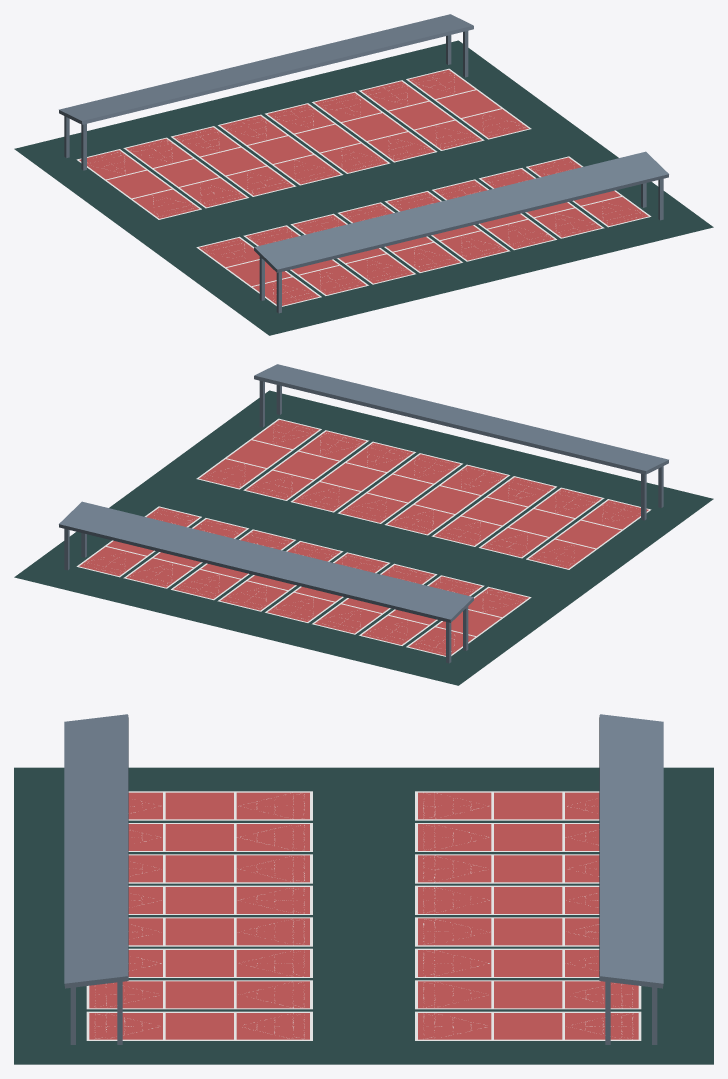
Rendered from 25_shuffleboard.dae.
3 renders of one model, top to bottom at view 1: azimuth 30°, elevation 25°; view 2: azimuth 150°, elevation 25°; view 3: azimuth 270°, elevation 25°, orthographic. The views are drawn at different scales.
Visible parts, largest first — view 1: SketchUp (×19), group_0 (×2), group_1 (×2); view 2: SketchUp (×19), group_1, group_0 (×2); view 3: SketchUp (×33), group_1 (×2), group_0.
Boxes of the visible parts, x1=… form: SketchUp (×19): x1=14, y1=40, x2=713, y2=335; group_0 (×2): x1=254, y1=151, x2=668, y2=313; group_1 (×2): x1=59, y1=14, x2=473, y2=124; SketchUp (×19): x1=14, y1=390, x2=713, y2=685; group_1: x1=59, y1=501, x2=473, y2=622; group_0 (×2): x1=254, y1=364, x2=668, y2=520; SketchUp (×33): x1=14, y1=767, x2=713, y2=1064; group_1 (×2): x1=599, y1=714, x2=663, y2=1044; group_0: x1=64, y1=714, x2=128, y2=988.
Size of the model in its own units: 65.32 by 65 by 7.27.
